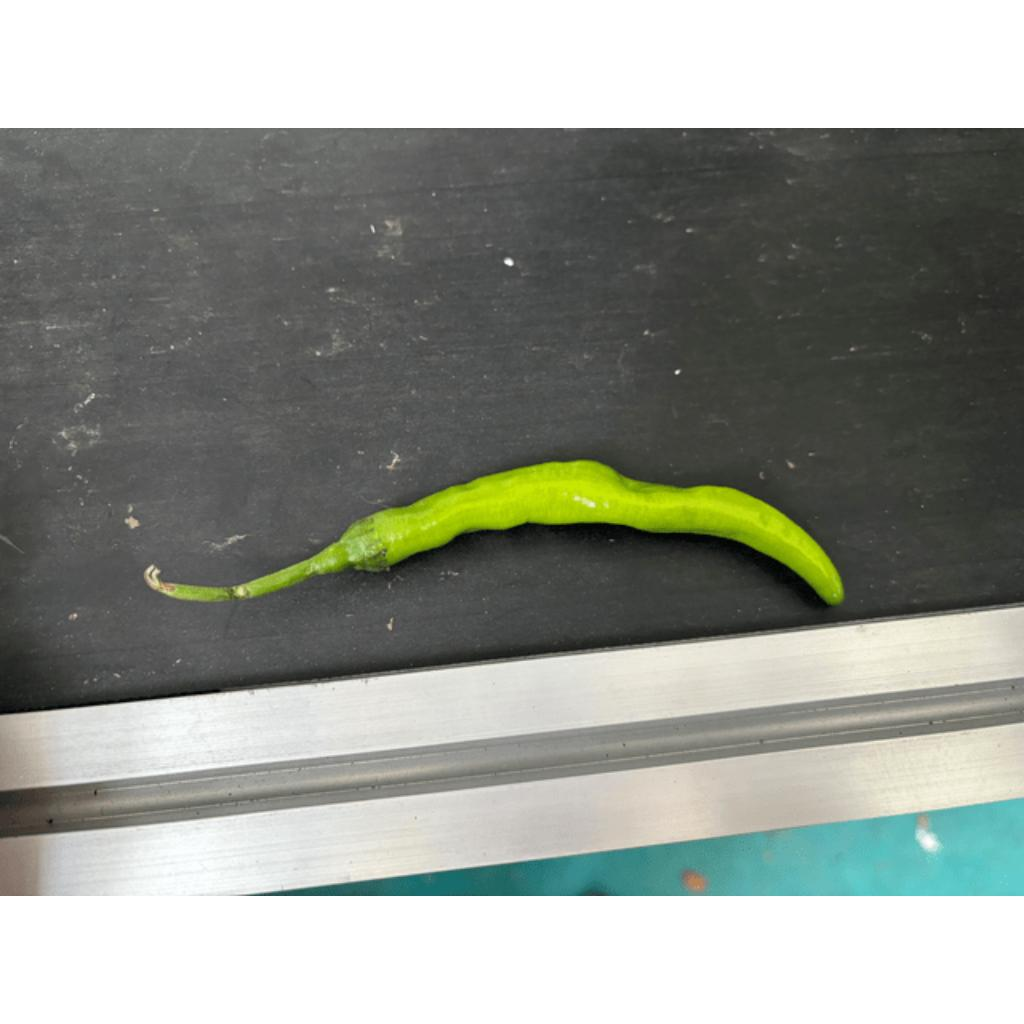chili: (341, 459, 847, 612)
